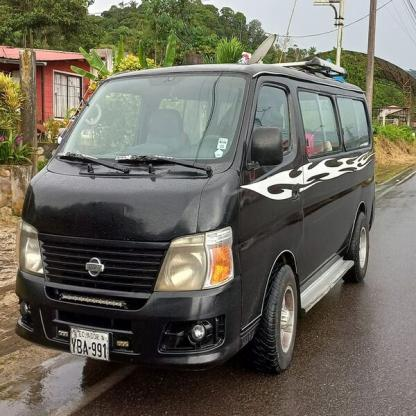Placa: (63, 323, 112, 361)
